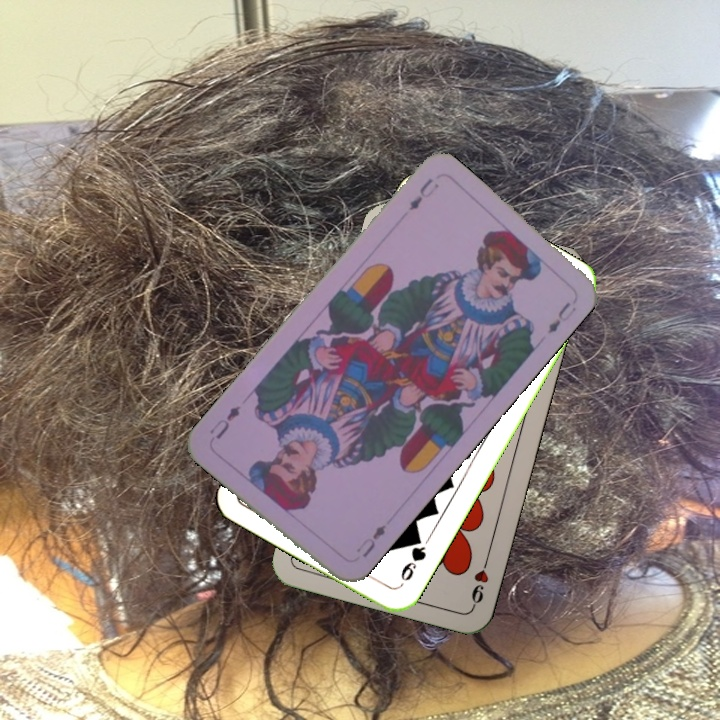EU: (404, 174, 442, 214), (352, 520, 389, 560)
G9: (396, 531, 429, 584)
H9: (467, 551, 492, 609)
